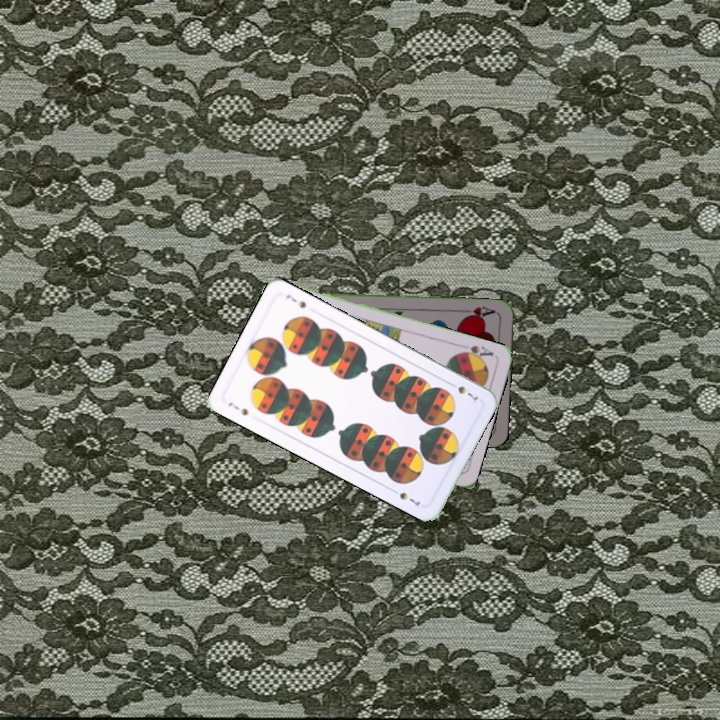HA: (458, 302, 498, 321)
S7: (445, 378, 480, 403), (224, 398, 251, 418)
SA: (455, 341, 497, 363)
